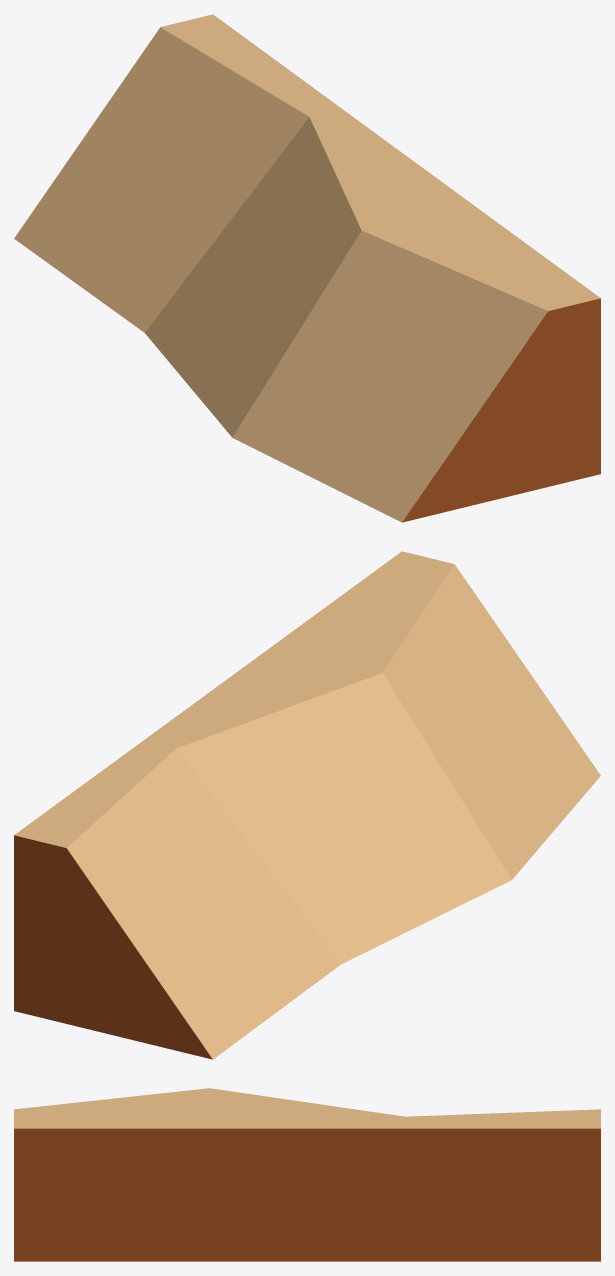
The model's file is borderSand.fbx.
The picture shows the model from 3 angles, top to bottom: view 1: azimuth 30°, elevation 25°; view 2: azimuth 150°, elevation 25°; view 3: azimuth 270°, elevation 25°; orthographic projection. The views are drawn at different scales.
Parts seen in each view (by area): view 1: borderSand; view 2: borderSand; view 3: borderSand.
Part boxes in pixels (<box>): borderSand: <box>14,14,600,522</box>; borderSand: <box>14,551,600,1059</box>; borderSand: <box>14,1088,600,1261</box>.
Size of the model in its own units: 71.21 by 50 by 200.
